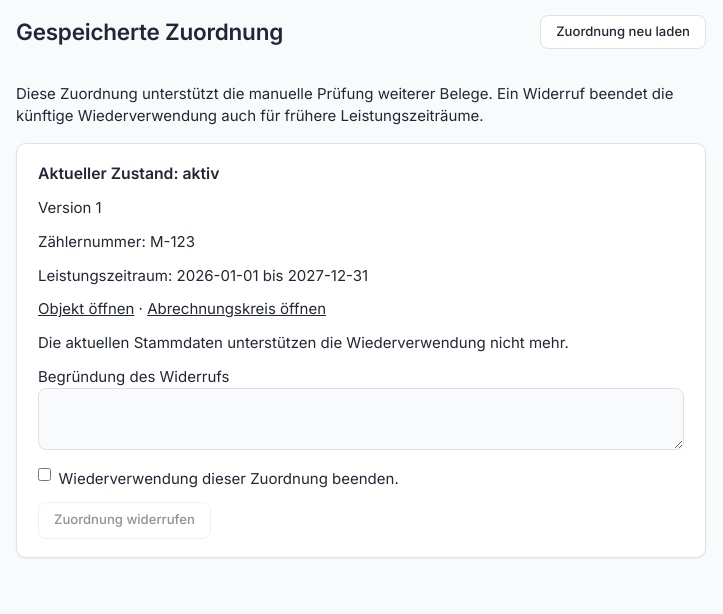
Test: clears private revocation draft and receipt when access is denied
Type "Private draft" into the text box labelled "Begründung des Widerrufs".
click(361, 419); type("Private draft")  # box [38,388,684,450]
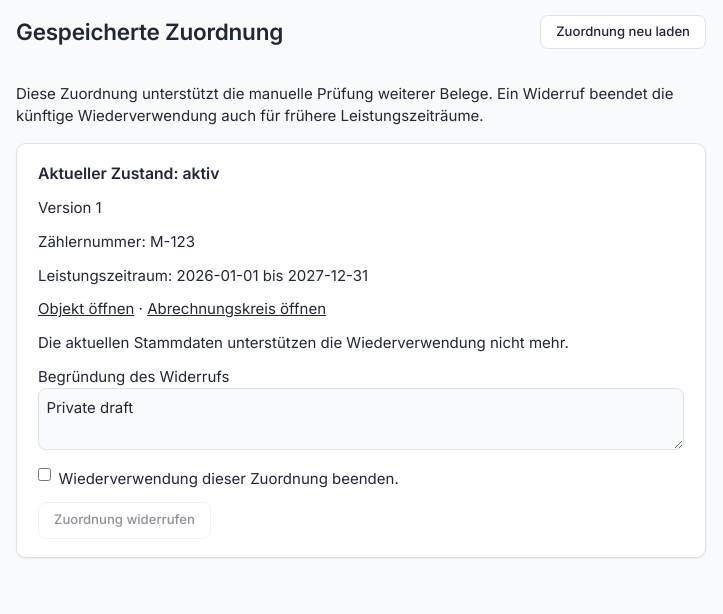
Click the checkbox.
click(44, 475)  # box [38,468,51,481]
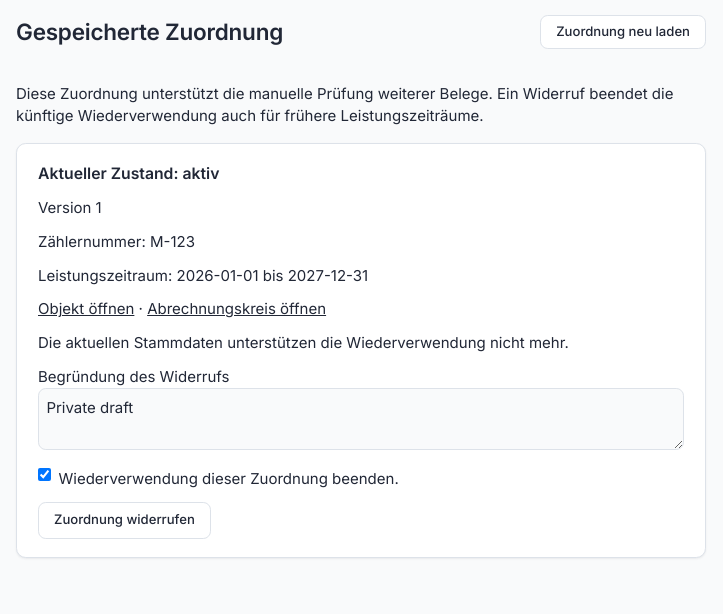
Click the button "Zuordnung widerrufen".
click(124, 520)  # box [38,502,211,539]
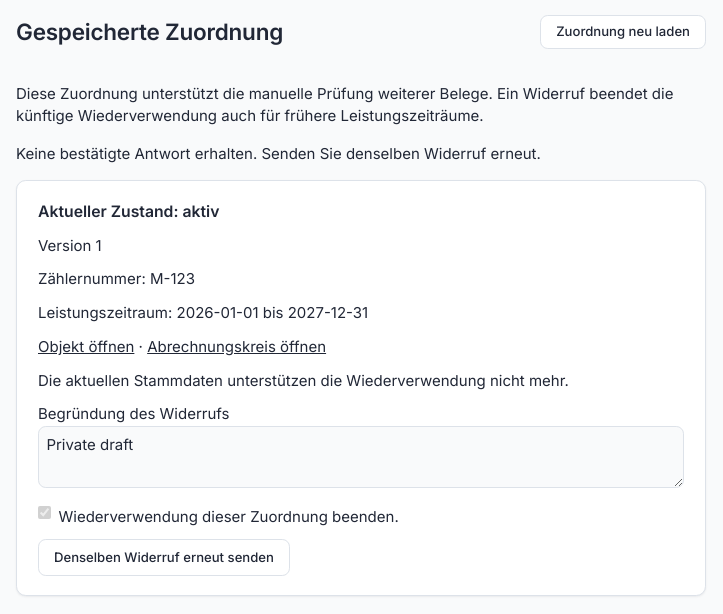
Check: the text "Keine bestätigte Antwort erhalten. Senden Sie denselben Widerruf erneut." is shown, box [16,144,541,162]
Click the button "Zuordnung neu laden".
click(623, 32)  # box [540,15,706,49]
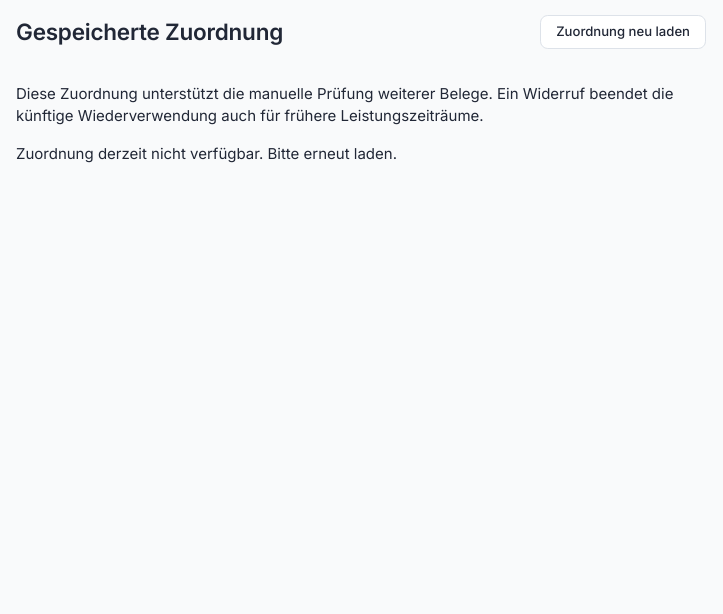
Check: the field showing "Private draft" is not shown
Check: the text "Zuordnung derzeit nicht verfügbar. Bitte erneut laden." is shown, box [16,144,397,162]
Check: the text "M-123" is gone
